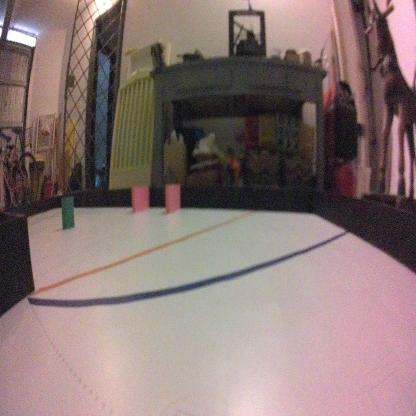green: (59, 190, 79, 234)
magenta: (131, 186, 149, 216), (164, 183, 179, 215)
